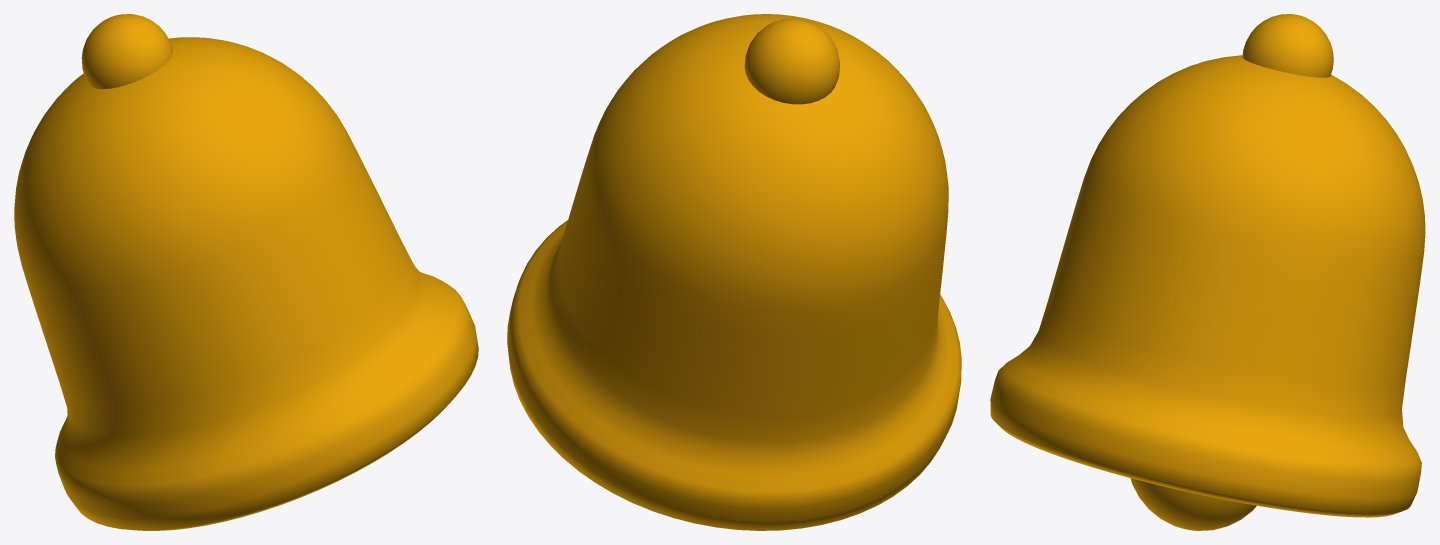
The model's file is bell.fbx.
3 renders of one model, left to right at view 1: azimuth 30°, elevation 25°; view 2: azimuth 150°, elevation 25°; view 3: azimuth 270°, elevation 25°, orthographic. The views are drawn at different scales.
Visible parts, largest first — view 1: Sphere, Sphere.001; view 2: Sphere, Sphere.001; view 3: Sphere, Sphere.001, Sphere.002.
Boxes of the visible parts, x1,y1,x2,y2 form: Sphere: (14,37,478,530); Sphere.001: (81,14,172,89); Sphere: (507,14,961,530); Sphere.001: (744,18,839,104); Sphere: (990,55,1425,517); Sphere.001: (1242,14,1333,77); Sphere.002: (1130,478,1256,530).
Size of the model in its own units: 253 by 288 by 246.
